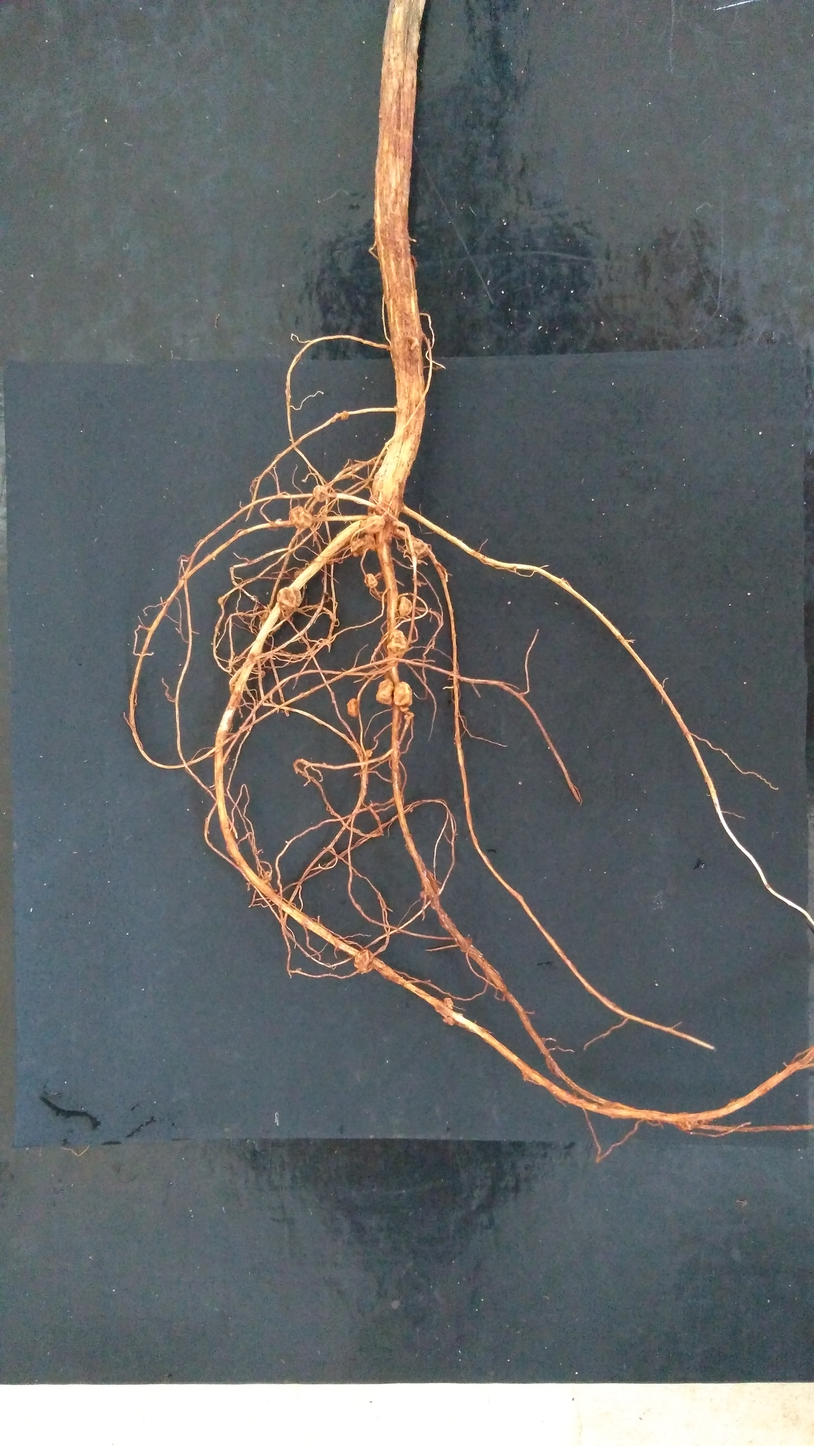nodule: (375, 679, 413, 711), (276, 586, 302, 620), (350, 532, 377, 556), (405, 537, 433, 559), (387, 629, 410, 653), (289, 505, 312, 529), (359, 514, 385, 534), (353, 949, 373, 972), (435, 997, 454, 1017), (398, 597, 413, 617), (313, 485, 330, 502), (346, 698, 359, 717), (364, 573, 378, 588), (406, 335, 419, 351), (443, 1015, 456, 1026), (294, 569, 305, 579), (418, 889, 428, 899), (339, 410, 348, 421), (364, 748, 373, 757)
